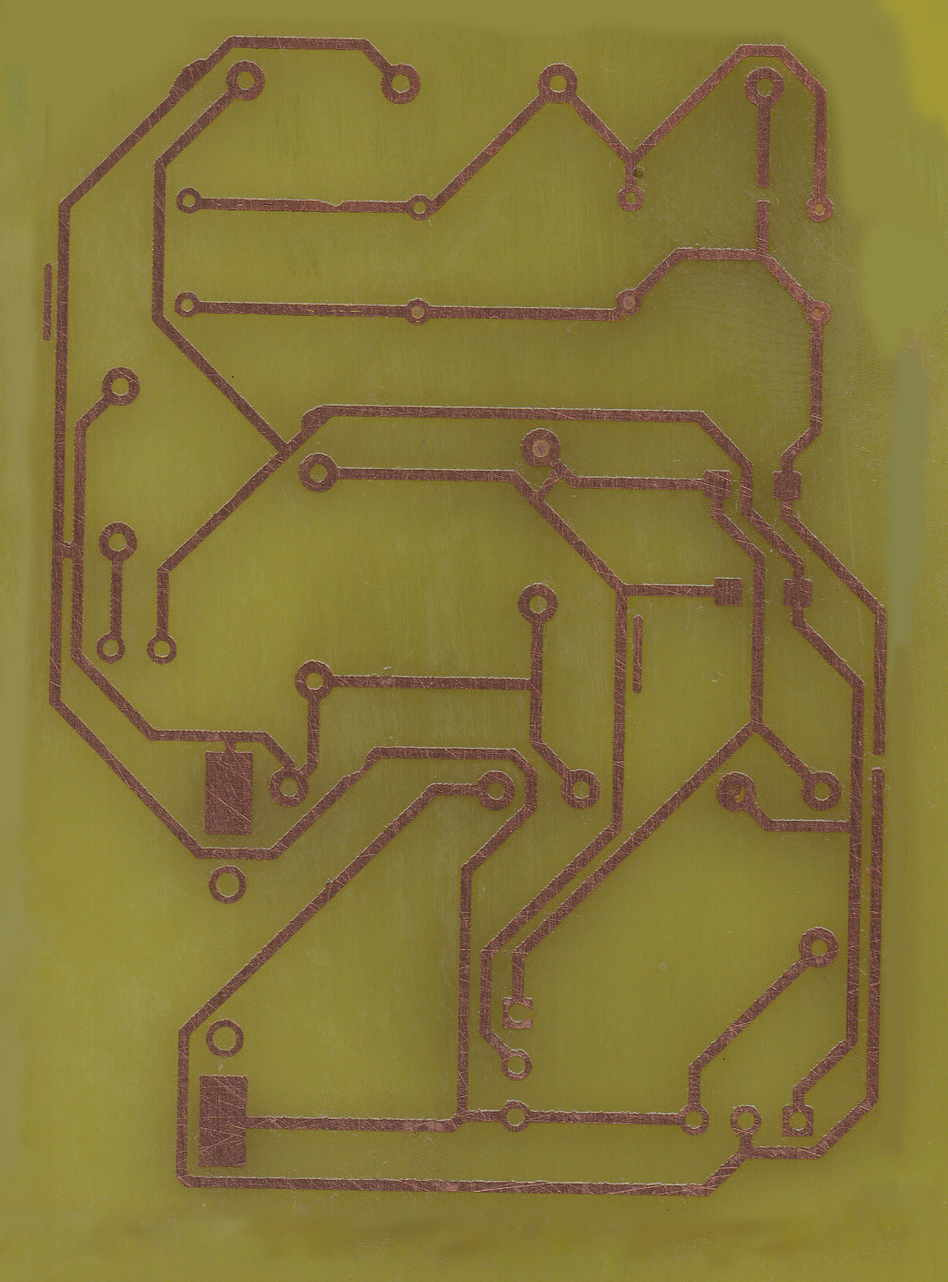missing_hole: (499, 991, 537, 1036)
mouse_bite: (341, 750, 375, 786), (318, 195, 349, 216)
open_circuit: (750, 171, 775, 213), (868, 742, 888, 780)
short: (49, 532, 90, 570), (529, 466, 568, 500)
spur: (160, 52, 216, 97), (296, 404, 339, 433)
spurious_copper: (628, 610, 647, 698), (39, 263, 56, 346)
